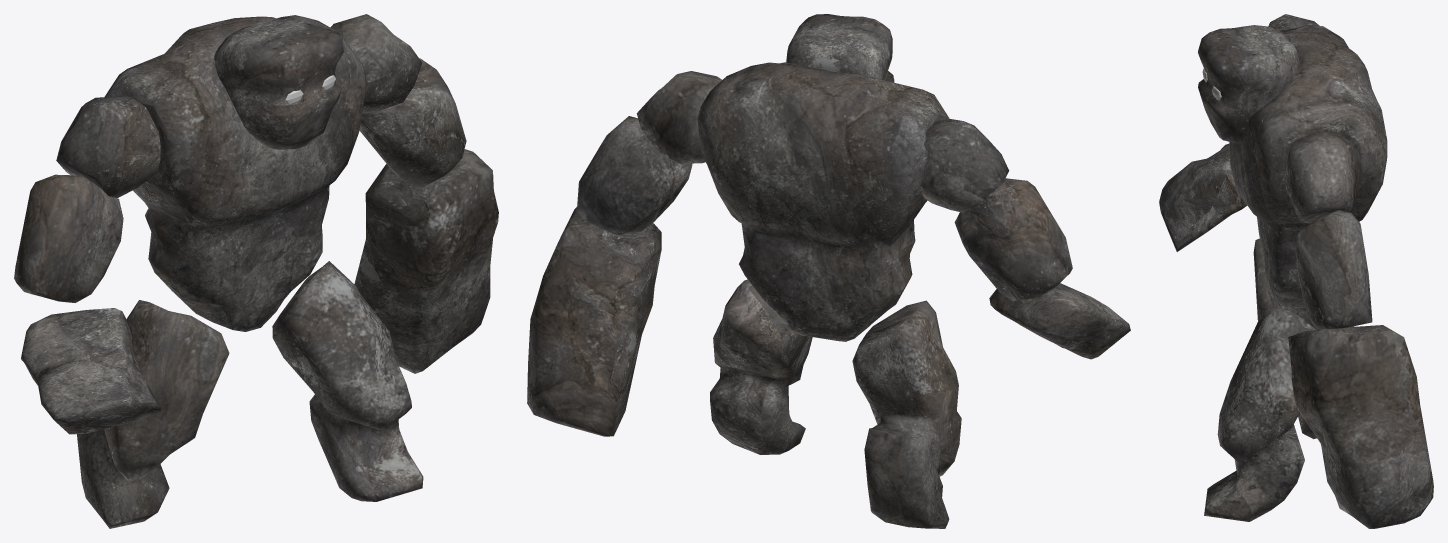
Rendered from walk_000016.obj.
The picture shows the model from 3 angles, left to right: view 1: azimuth 30°, elevation 25°; view 2: azimuth 150°, elevation 25°; view 3: azimuth 270°, elevation 25°; orthographic projection. The views are drawn at different scales.
Parts seen in each view (by area): view 1: hands&leg.001_ice.003, torso.001_ice.005, head.001_ice.004; view 2: hands&leg.001_ice.003, torso.001_ice.005, head.001_ice.004; view 3: hands&leg.001_ice.003, torso.001_ice.005, head.001_ice.004.
Boxes of the visible parts, x1=… form: hands&leg.001_ice.003: x1=14, y1=14, x2=498, y2=528; torso.001_ice.005: x1=104, y1=15, x2=366, y2=331; head.001_ice.004: x1=214, y1=17, x2=343, y2=149; hands&leg.001_ice.003: x1=527, y1=71, x2=1130, y2=528; torso.001_ice.005: x1=697, y1=62, x2=949, y2=341; head.001_ice.004: x1=786, y1=14, x2=894, y2=82; hands&leg.001_ice.003: x1=1159, y1=14, x2=1433, y2=528; torso.001_ice.005: x1=1229, y1=24, x2=1387, y2=318; head.001_ice.004: x1=1198, y1=25, x2=1299, y2=143.
Bounding box in the file's own units: 11.13 × 9.57 × 5.36.
Materials: 2 (1 with a texture image).
